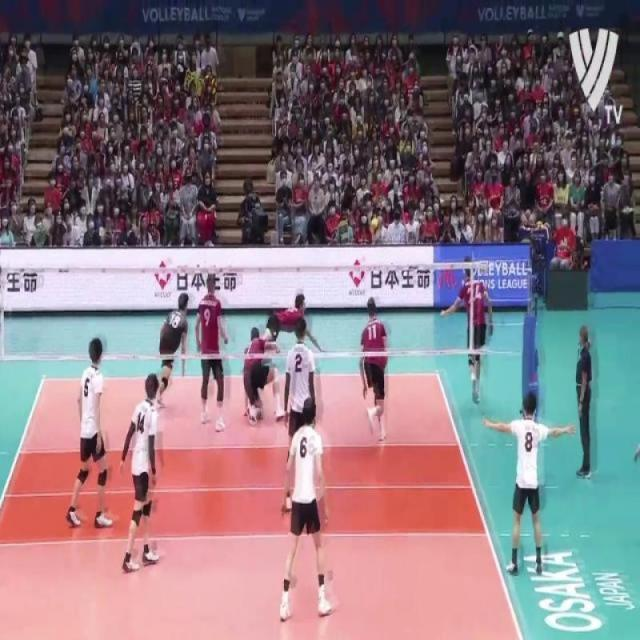volleyball: (370, 218, 380, 234)
